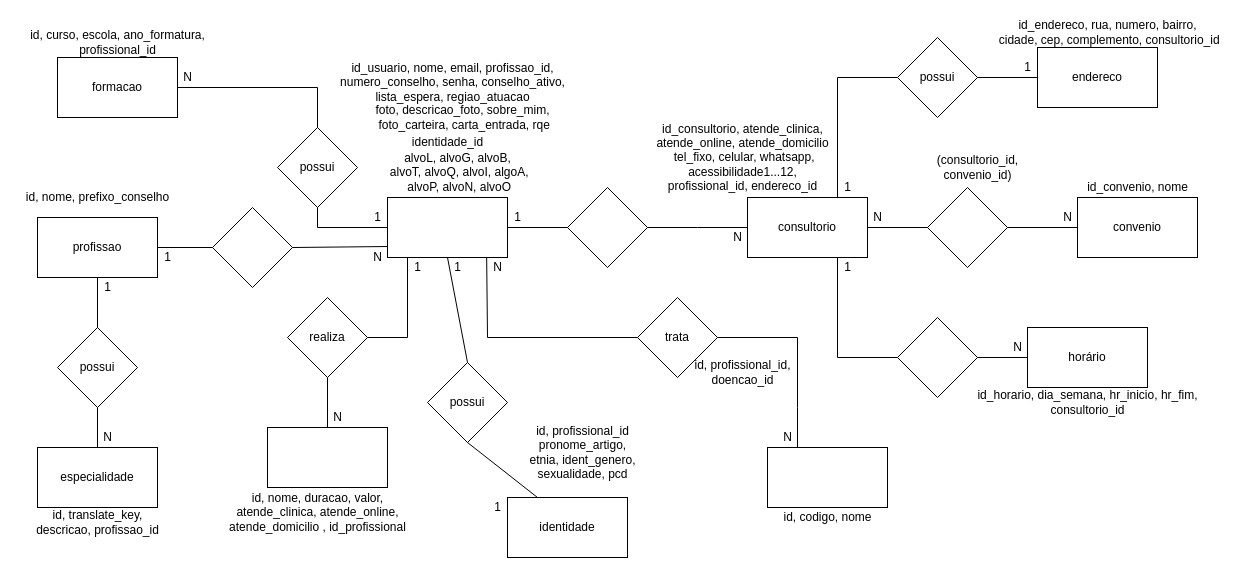
Some shapes in this 1244 by 575 pixel diagram are drawn without their labels. Here are the shapes that lost their labels. From the top down, the box of each, then its label:
(212, 206, 292, 288): exerce
(386, 196, 508, 258): profissional
(566, 186, 648, 268): atua
(926, 186, 1008, 268): aceita
(896, 316, 978, 398): funciona
(266, 426, 388, 488): servico
(766, 446, 888, 508): doenca
